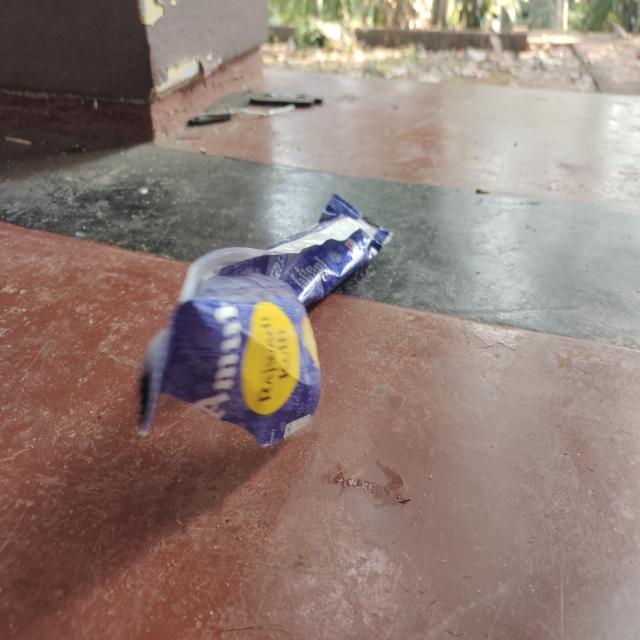plastic: (136, 191, 395, 454)
